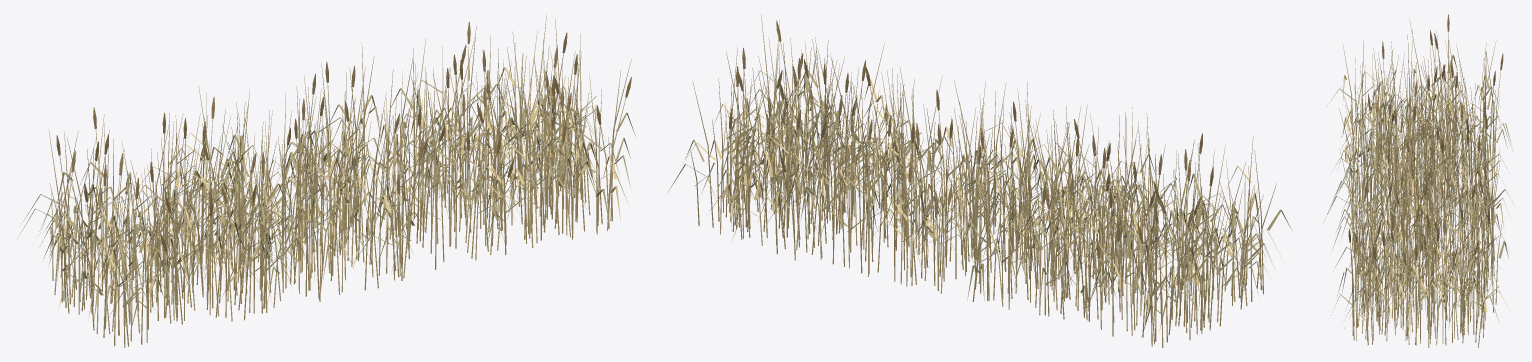
Rendered from CW_GoldenReedBand4m.fbx.
3 views of the same model, side by side, from view 1: azimuth 30°, elevation 25°; view 2: azimuth 150°, elevation 25°; view 3: azimuth 270°, elevation 25° (orthographic). The views are drawn at different scales.
Parts seen in each view (by area): view 1: CW_GoldenReedBand4m; view 2: CW_GoldenReedBand4m; view 3: CW_GoldenReedBand4m.
Part boxes in pixels (x1=…): CW_GoldenReedBand4m: x1=19, y1=14, x2=635, y2=347; CW_GoldenReedBand4m: x1=668, y1=14, x2=1290, y2=347; CW_GoldenReedBand4m: x1=1323, y1=14, x2=1514, y2=347.
Bounding box in the file's own units: 4 × 1.2 × 1.5.
